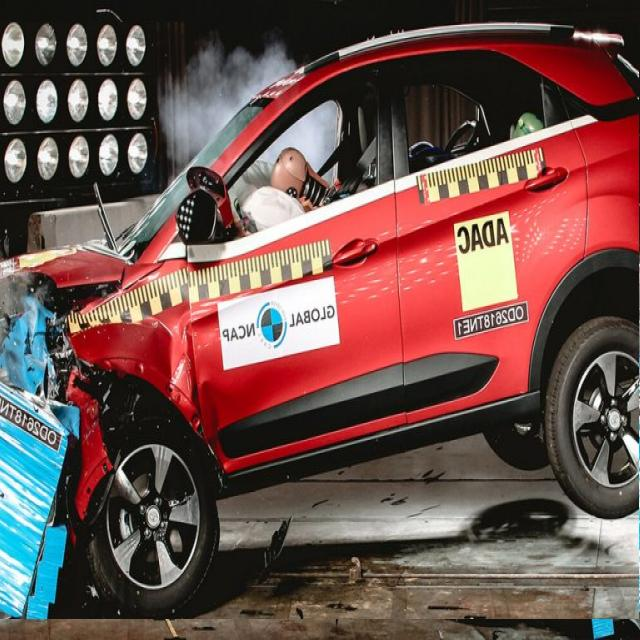accident: (0, 23, 639, 619)
